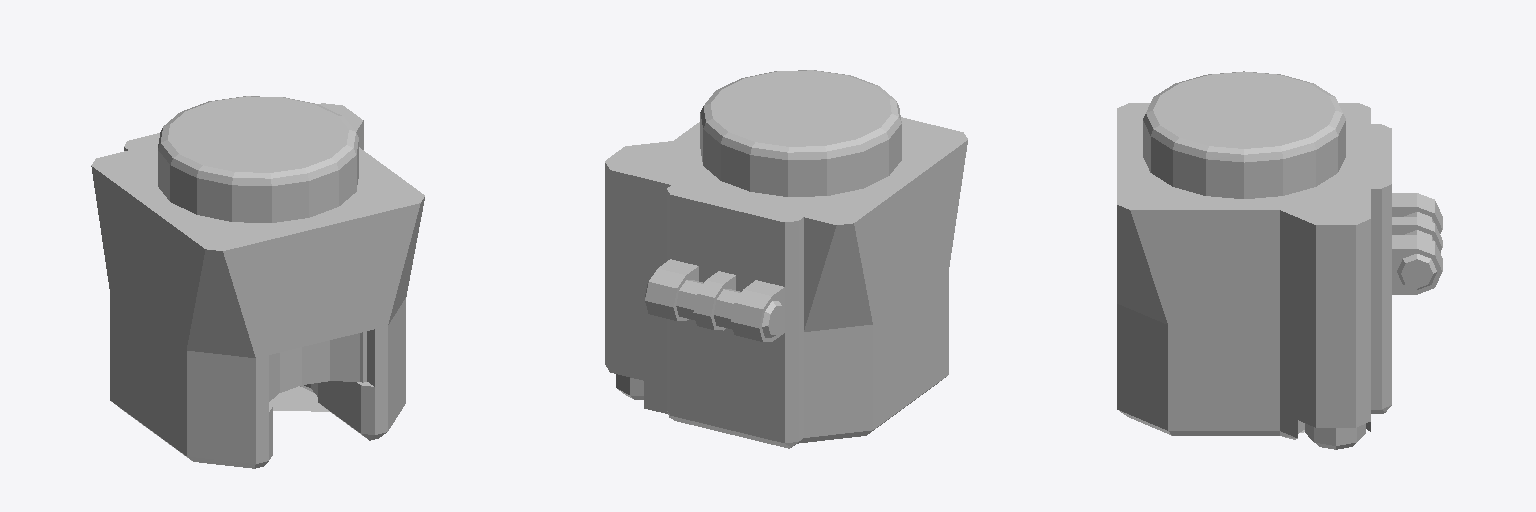
The model's file is m54_breech.obj.
The picture shows the model from 3 angles: view 1: azimuth 30°, elevation 25°; view 2: azimuth 150°, elevation 25°; view 3: azimuth 270°, elevation 25°; orthographic projection.
Visible parts, largest first — view 1: Cube.003; view 2: Cube.003; view 3: Cube.003.
Part boxes in pixels (bbox=[...]): Cube.003: bbox=[91, 96, 424, 468]; Cube.003: bbox=[605, 70, 967, 448]; Cube.003: bbox=[1117, 71, 1442, 449].
Size of the model in its own units: 2.85 by 3 by 3.2.